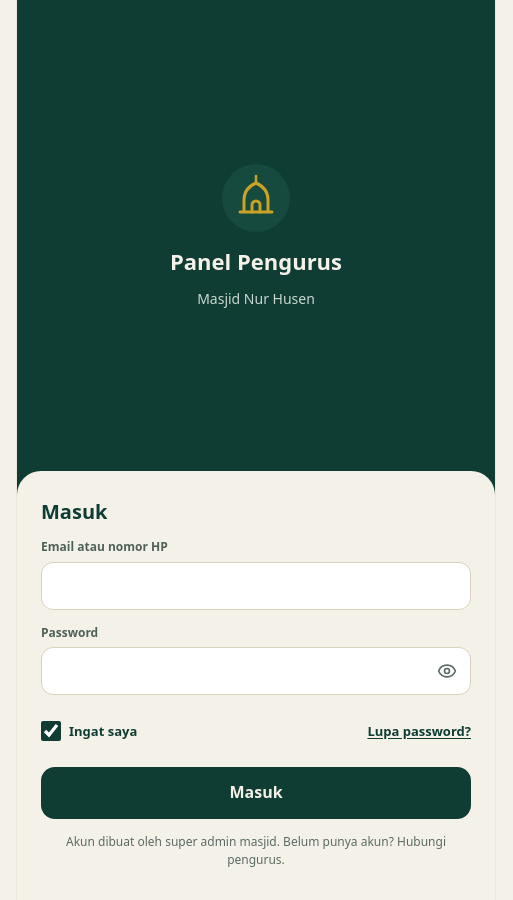
Test case: LoginPage › returns to the page that asked for login
Type "ketua@masjid.id" into the field labelled "Email atau nomor HP" at (256, 586), box x1=41 y1=562 x2=471 y2=610
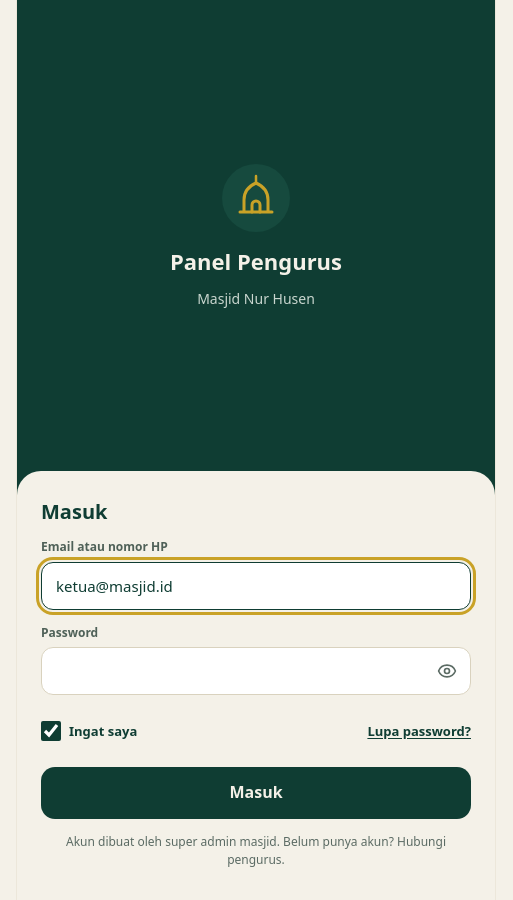
Type "masjid123" into the password field labelled "Password" at (256, 671), box x1=41 y1=647 x2=471 y2=695
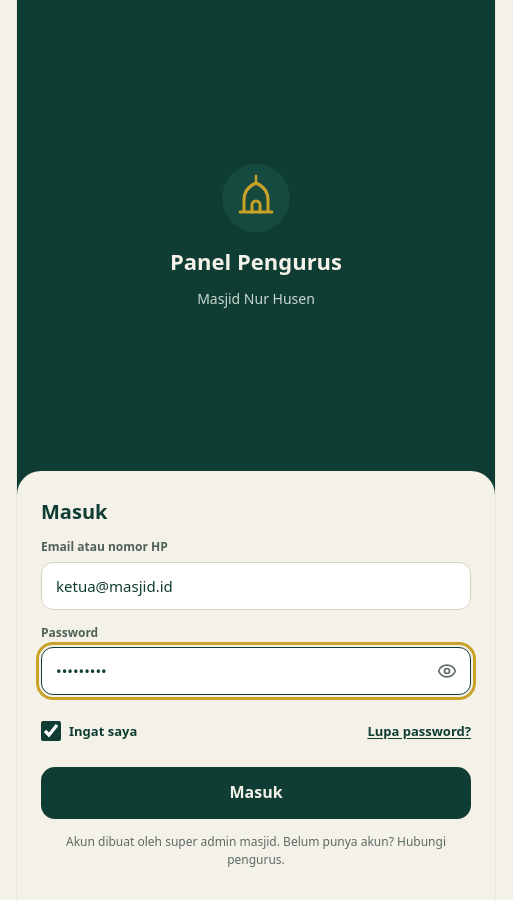
Click the button "Masuk" at (256, 793), box x1=41 y1=767 x2=471 y2=819
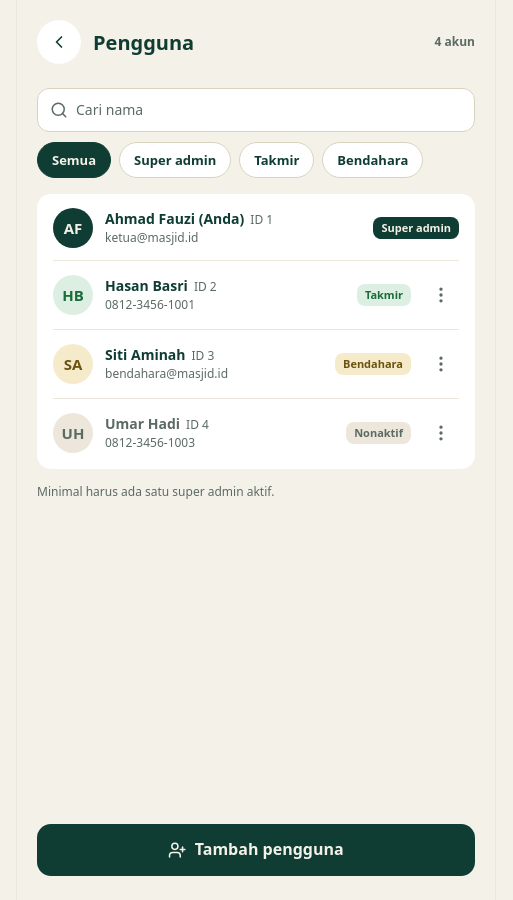
Expected: the heading "Pengguna" is shown, x1=93 y1=28 x2=194 y2=56
